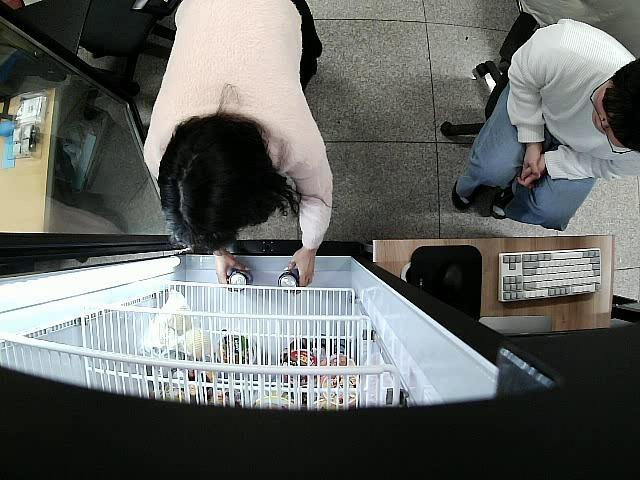14_welchsGrape: (226, 270, 253, 293), (278, 270, 300, 292)
